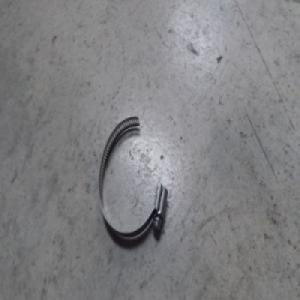AdjustableClamp: (97, 115, 167, 237)
